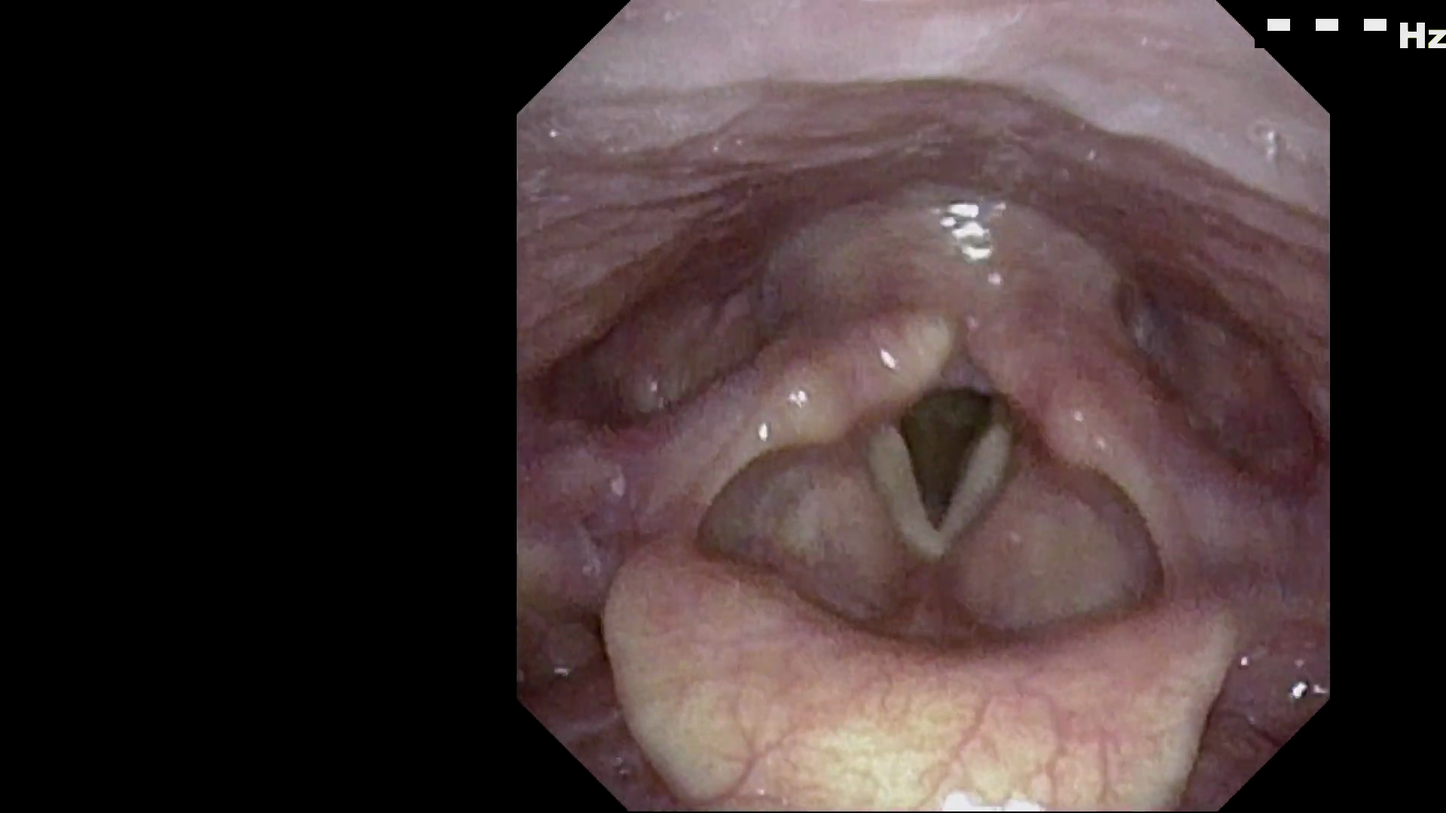epiglottis: (597, 524, 1231, 767)
trachea: (868, 366, 1047, 591)
